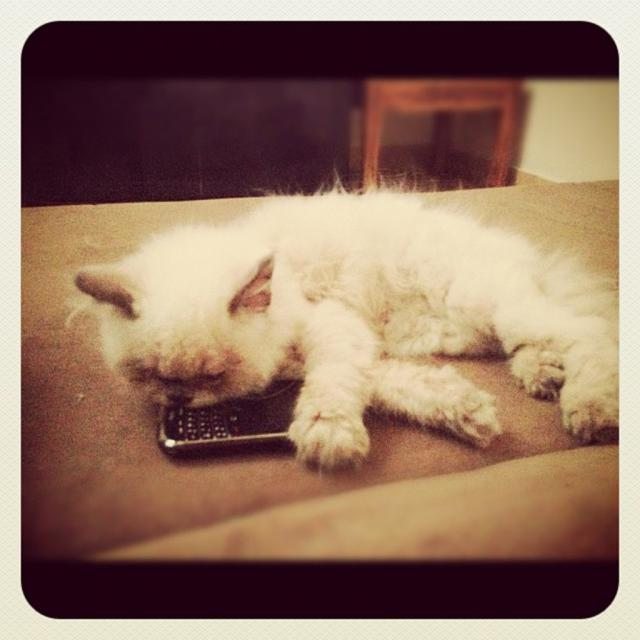Cat: (67, 175, 622, 472)
